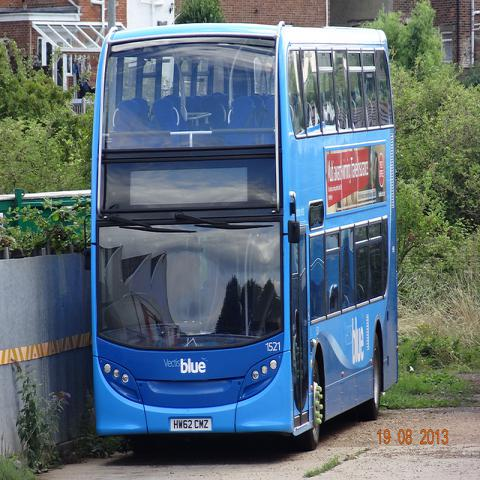bus: (90, 24, 403, 438)
